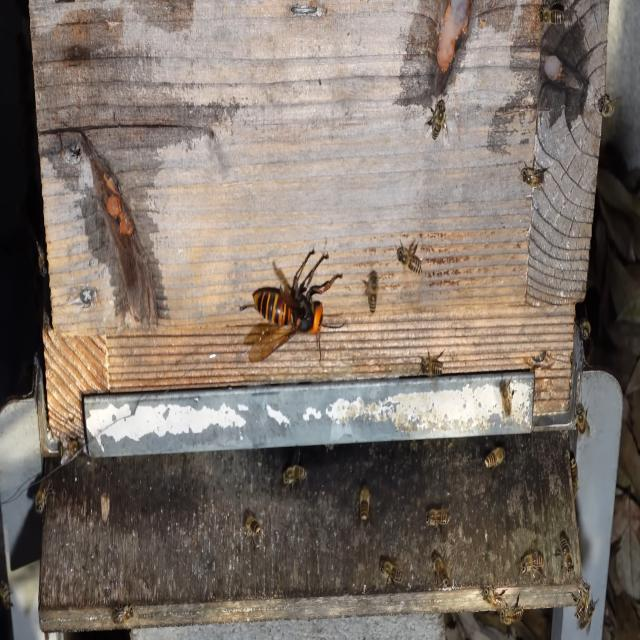Bees: (425, 90, 450, 148), (394, 236, 424, 278), (534, 0, 570, 35), (361, 264, 382, 320), (518, 155, 550, 191), (569, 574, 590, 626), (497, 592, 524, 630), (516, 547, 546, 581), (416, 347, 445, 382), (593, 88, 622, 123), (54, 429, 80, 468), (278, 460, 310, 491), (242, 512, 264, 556), (431, 546, 452, 591), (378, 555, 403, 592), (553, 536, 575, 578), (577, 593, 599, 635), (34, 474, 54, 518), (422, 503, 453, 531), (498, 375, 517, 420), (354, 479, 372, 524), (572, 396, 590, 440), (479, 580, 506, 609), (568, 450, 582, 504), (481, 446, 508, 472), (112, 602, 136, 626)
Hornets: (239, 246, 346, 364)
